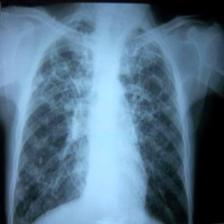tuberculosis: (5, 15, 193, 224)
